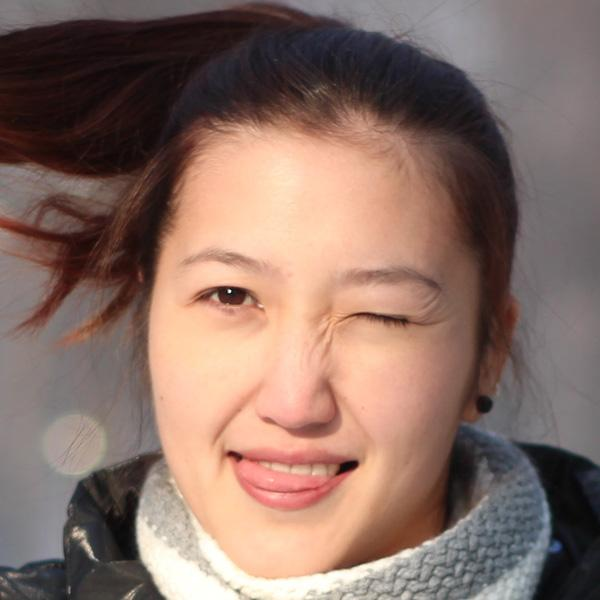Eyes: (335, 294, 426, 342), (185, 272, 268, 324)
